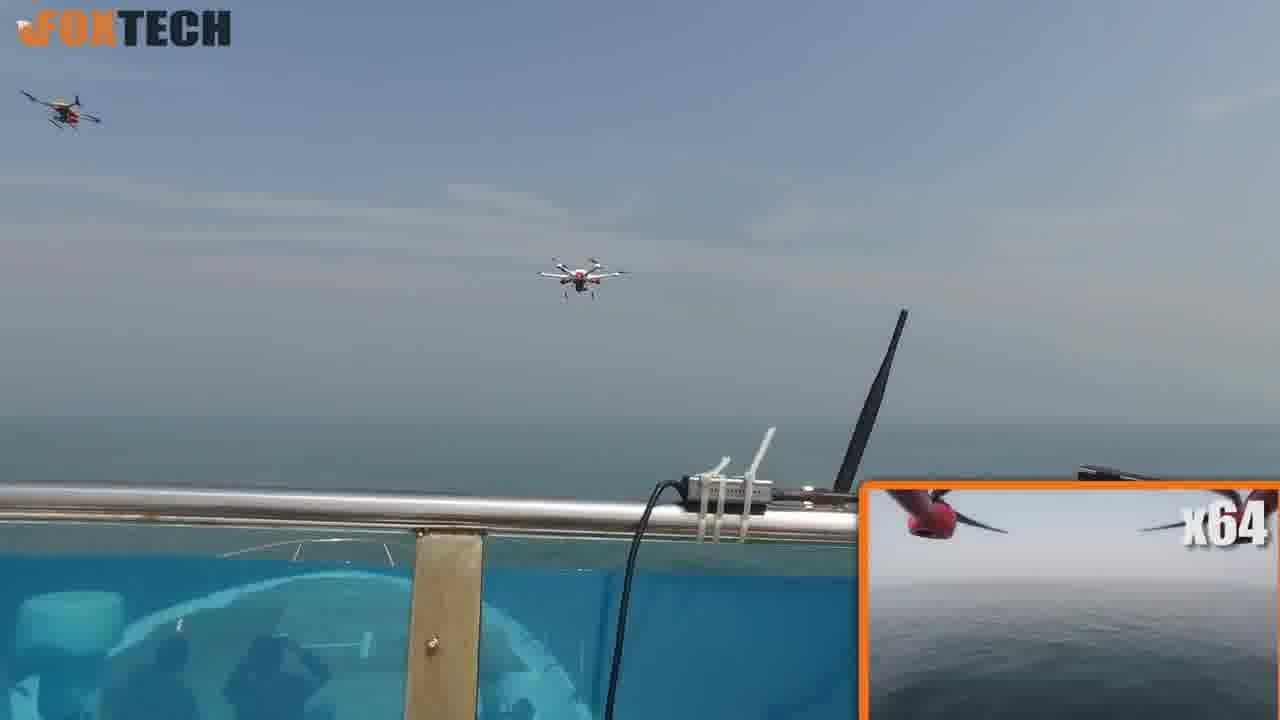drone: (12, 82, 104, 136), (530, 252, 640, 296)
